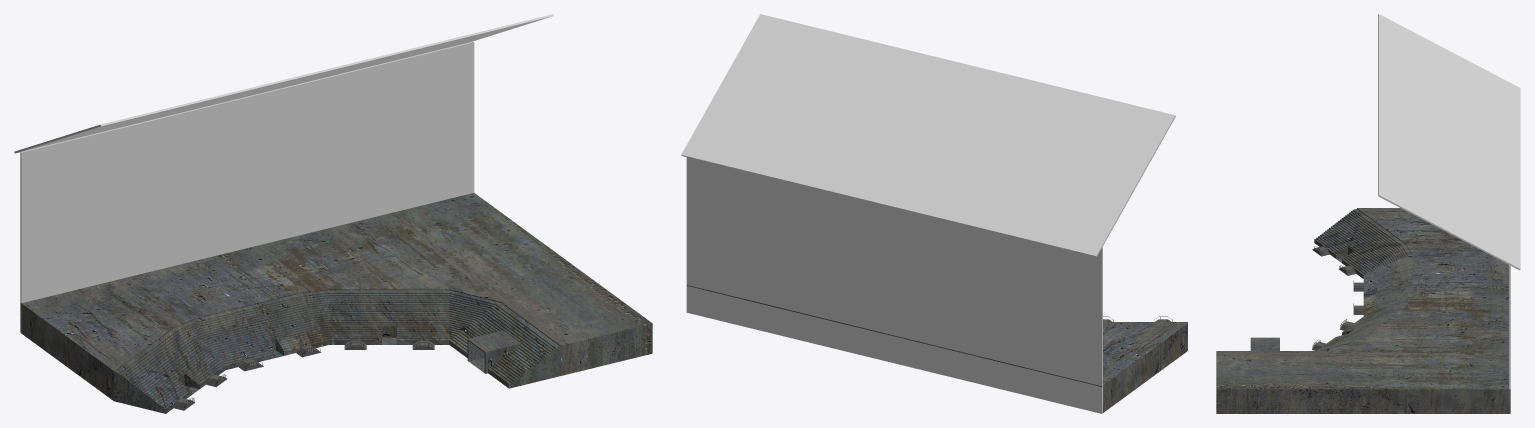
The model's file is Stand_N_Hall.fbx.
3 renders of one model, left to right at view 1: azimuth 30°, elevation 25°; view 2: azimuth 150°, elevation 25°; view 3: azimuth 270°, elevation 25°, orthographic. The views are drawn at different scales.
Parts seen in each view (by area): view 1: Wall, Stand_ceiling, Stand_body, Ceiling; view 2: Ceiling, Wall, Stand_ceiling; view 3: Stand_ceiling, Ceiling, Stand_body.
Part boxes in pixels (x1=…): Wall: x1=20, y1=41, x2=474, y2=332; Stand_ceiling: x1=20, y1=193, x2=652, y2=400; Stand_body: x1=114, y1=290, x2=560, y2=413; Ceiling: x1=14, y1=14, x2=553, y2=153; Ceiling: x1=681, y1=14, x2=1175, y2=256; Wall: x1=686, y1=157, x2=1102, y2=413; Stand_ceiling: x1=686, y1=285, x2=1187, y2=412; Stand_ceiling: x1=1216, y1=208, x2=1510, y2=413; Ceiling: x1=1378, y1=14, x2=1520, y2=270; Stand_body: x1=1216, y1=209, x2=1412, y2=352.
Bounding box in the file's own units: 10615 × 5983 × 7537.
